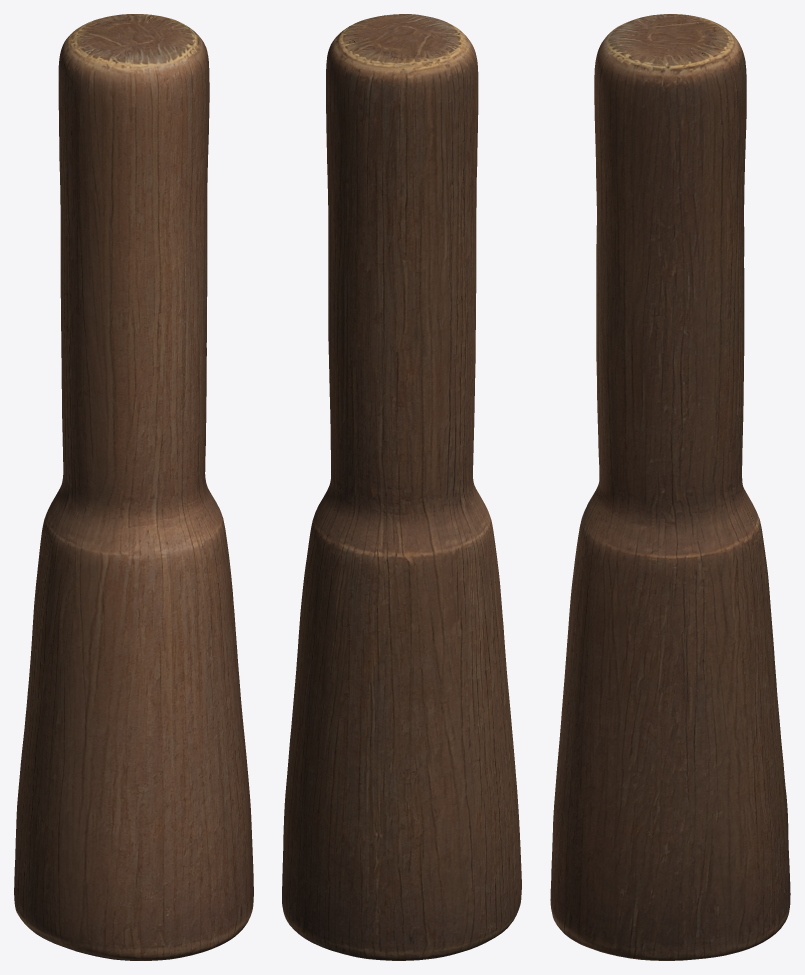
The model's file is Prop_Pestle.fbx.
3 views of the same model, side by side, from view 1: azimuth 30°, elevation 25°; view 2: azimuth 150°, elevation 25°; view 3: azimuth 270°, elevation 25° (orthographic).
Parts seen in each view (by area): view 1: texture_mapping; view 2: texture_mapping; view 3: texture_mapping.
Part boxes in pixels (<box>): texture_mapping: <box>14,14,253,960</box>; texture_mapping: <box>282,14,521,960</box>; texture_mapping: <box>550,14,790,960</box>.
Bounding box in the file's own units: 0.2471 × 0.2468 × 0.9998.
Materials: 1 (1 with a texture image).
